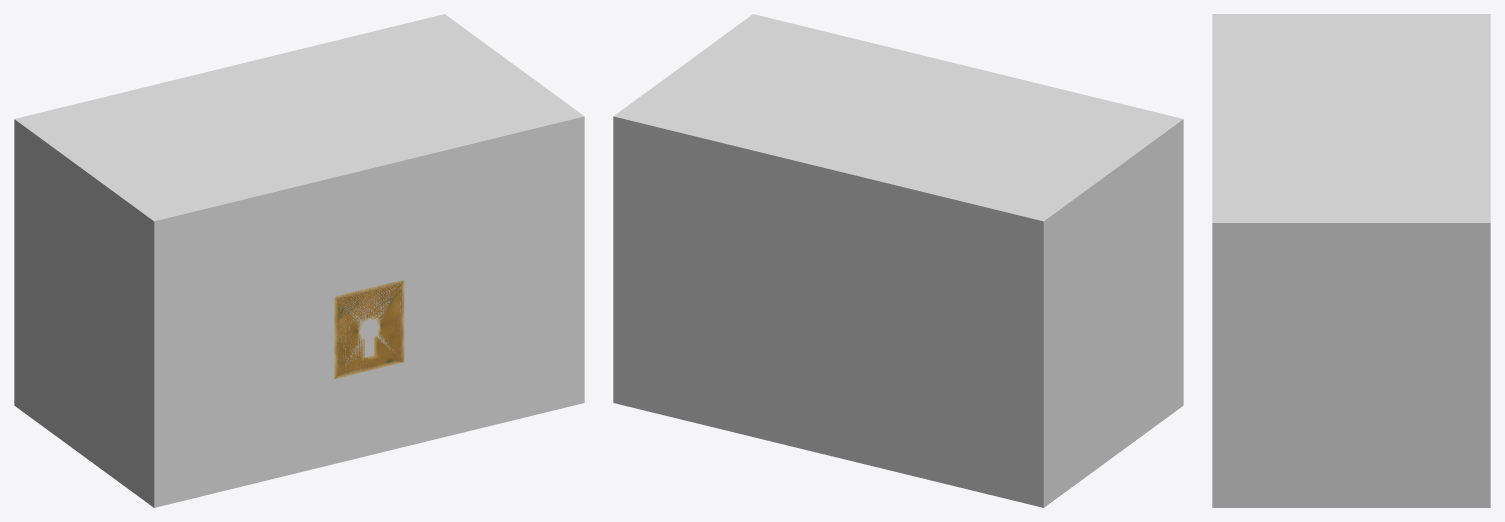
File: treasure_chest.glb
3 views of the same model, side by side, from view 1: azimuth 30°, elevation 25°; view 2: azimuth 150°, elevation 25°; view 3: azimuth 270°, elevation 25° (orthographic).
Visible parts, largest first — view 1: COL_treasure_chest_00, lock_plate; view 2: COL_treasure_chest_00; view 3: COL_treasure_chest_00.
Boxes of the visible parts, x1,y1,x2,y2 form: COL_treasure_chest_00: (14,14,584,507); lock_plate: (334,279,404,379); COL_treasure_chest_00: (613,14,1183,507); COL_treasure_chest_00: (1212,14,1490,507).
Bounding box in the file's own units: 0.9469 × 0.6023 × 0.533.
3 materials, 3 textured.
